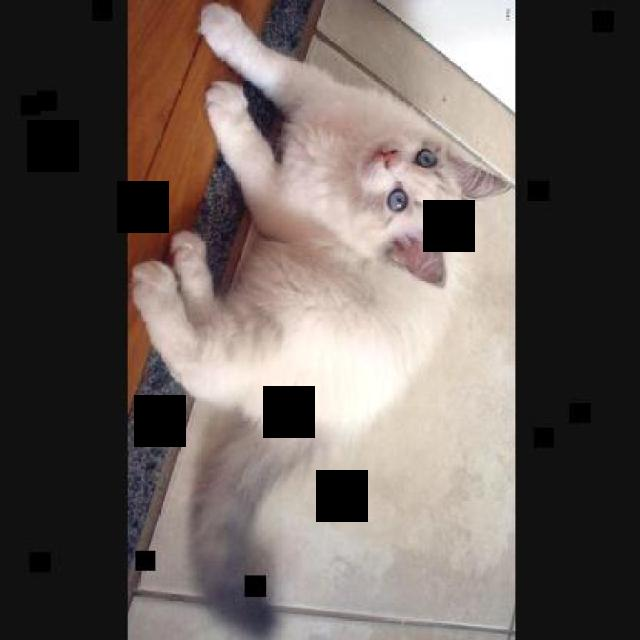unauthorized: (128, 0, 514, 638)
